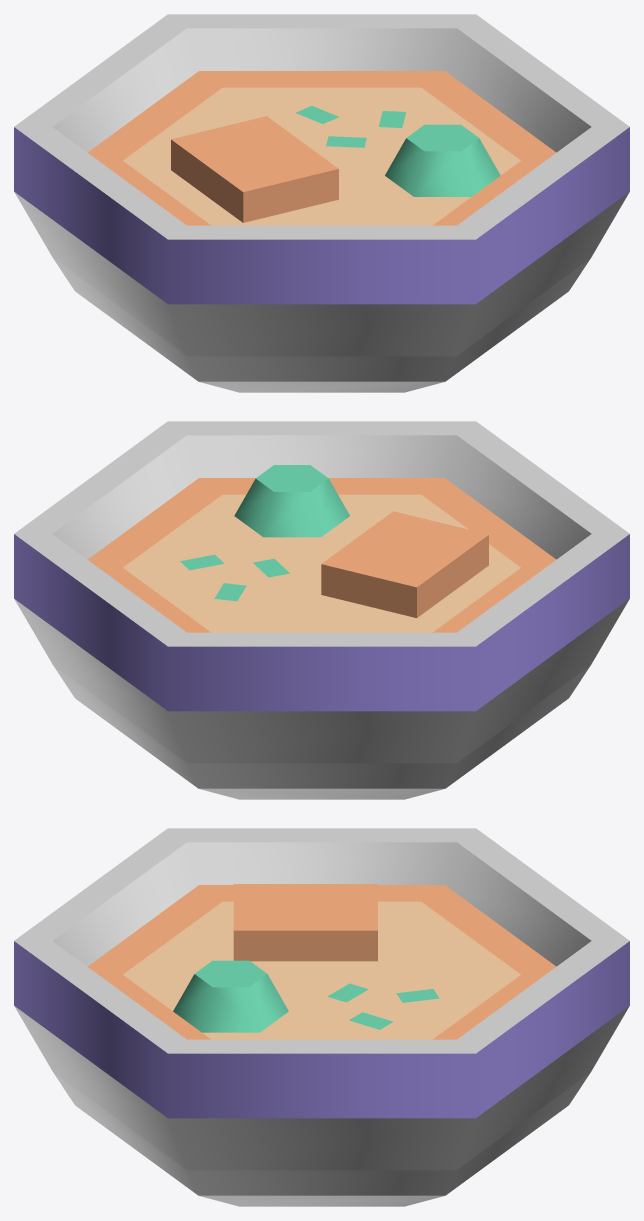
The model's file is bowlBroth.GLB.
3 renders of one model, top to bottom at view 1: azimuth 30°, elevation 25°; view 2: azimuth 150°, elevation 25°; view 3: azimuth 270°, elevation 25°, orthographic.
Visible parts, largest first — view 1: bowlBroth; view 2: bowlBroth; view 3: bowlBroth.
Part boxes in pixels (x1=…): bowlBroth: x1=14, y1=14, x2=629, y2=392; bowlBroth: x1=14, y1=421, x2=629, y2=799; bowlBroth: x1=14, y1=828, x2=629, y2=1206.
Size of the model in its own units: 0.5022 by 0.2177 by 0.5798.
